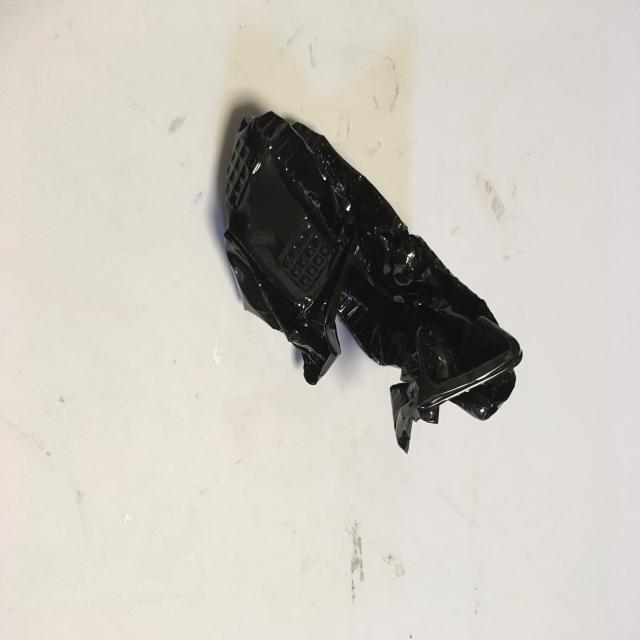plastic: (223, 109, 522, 454)
